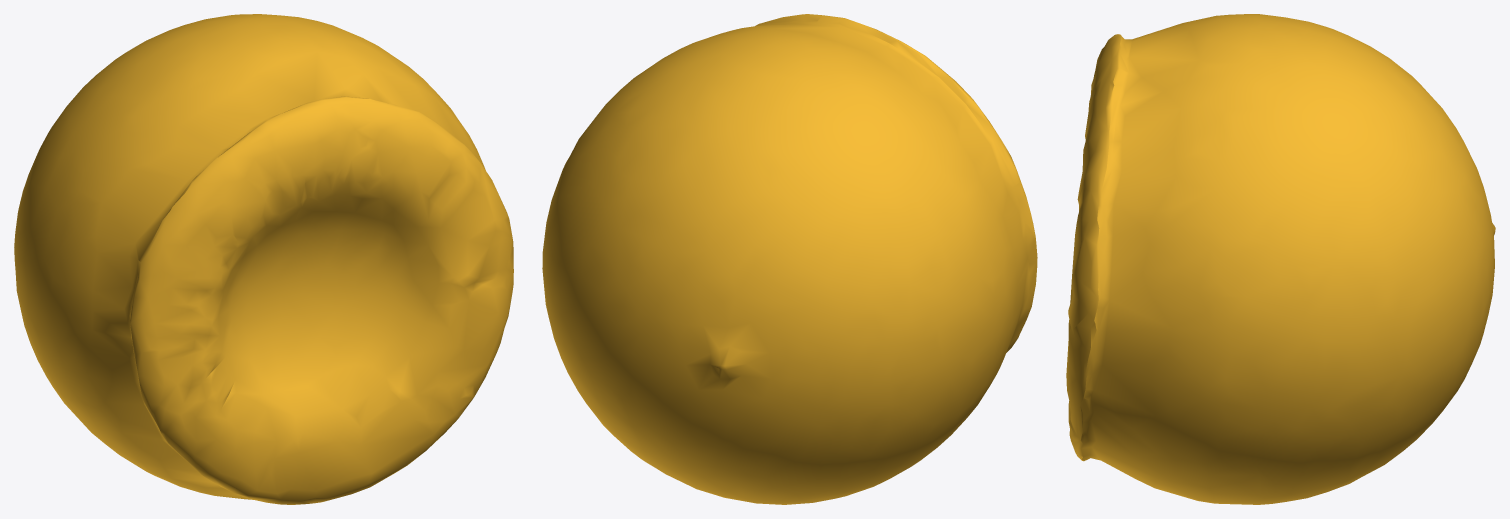
Rendered from nervoso-vitreous-body-r.glb.
3 views of the same model, side by side, from view 1: azimuth 30°, elevation 25°; view 2: azimuth 150°, elevation 25°; view 3: azimuth 270°, elevation 25° (orthographic). The views are drawn at different scales.
Visible parts, largest first — view 1: Vitreous body.r; view 2: Vitreous body.r; view 3: Vitreous body.r.
Part boxes in pixels (x1=…): Vitreous body.r: x1=14, y1=14, x2=513, y2=504; Vitreous body.r: x1=542, y1=14, x2=1037, y2=504; Vitreous body.r: x1=1066, y1=14, x2=1495, y2=504.
Bounding box in the file's own units: 0.0204 × 0.0203 × 0.0177.
